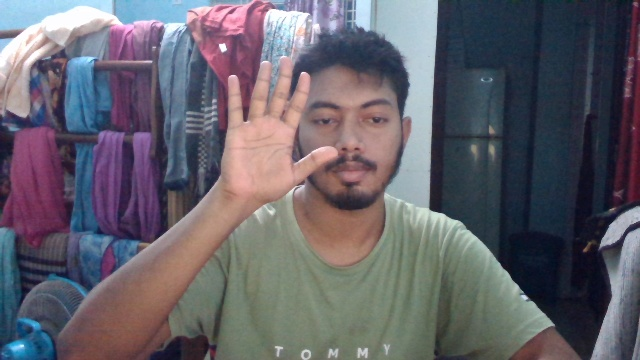hello: (222, 51, 338, 208)
